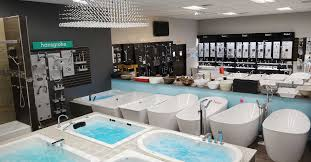bathub: (263, 104, 310, 161), (210, 100, 261, 148), (179, 93, 232, 137), (147, 91, 197, 134), (123, 93, 169, 129), (72, 87, 122, 120), (94, 91, 133, 118)
